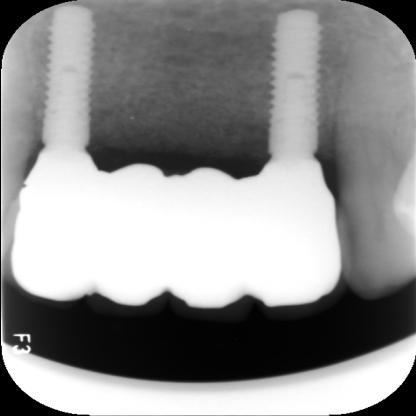ITI: (252, 3, 332, 160), (32, 7, 100, 154)
